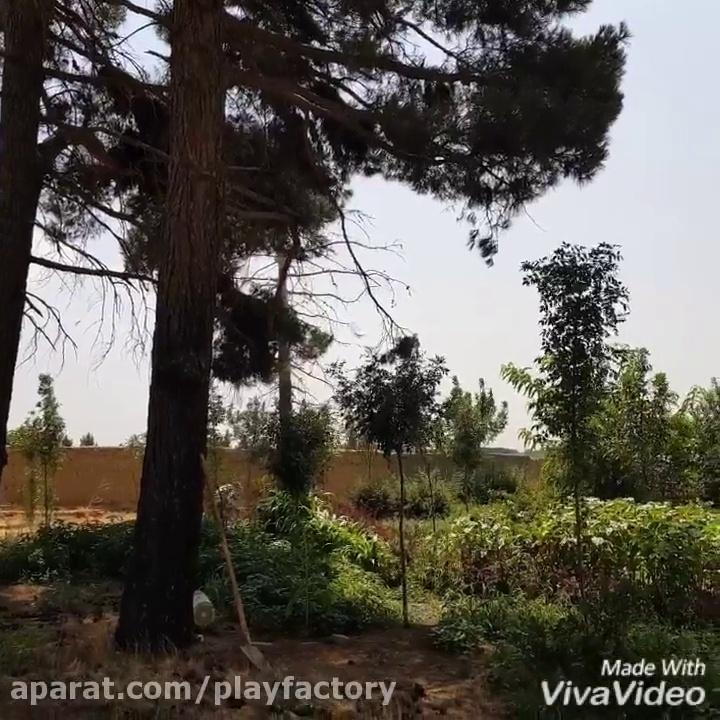drone: (351, 329, 366, 338)
